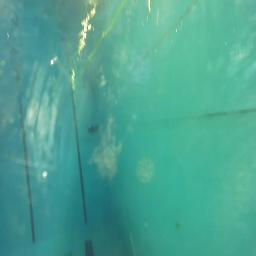Full: (86, 122, 100, 134)
